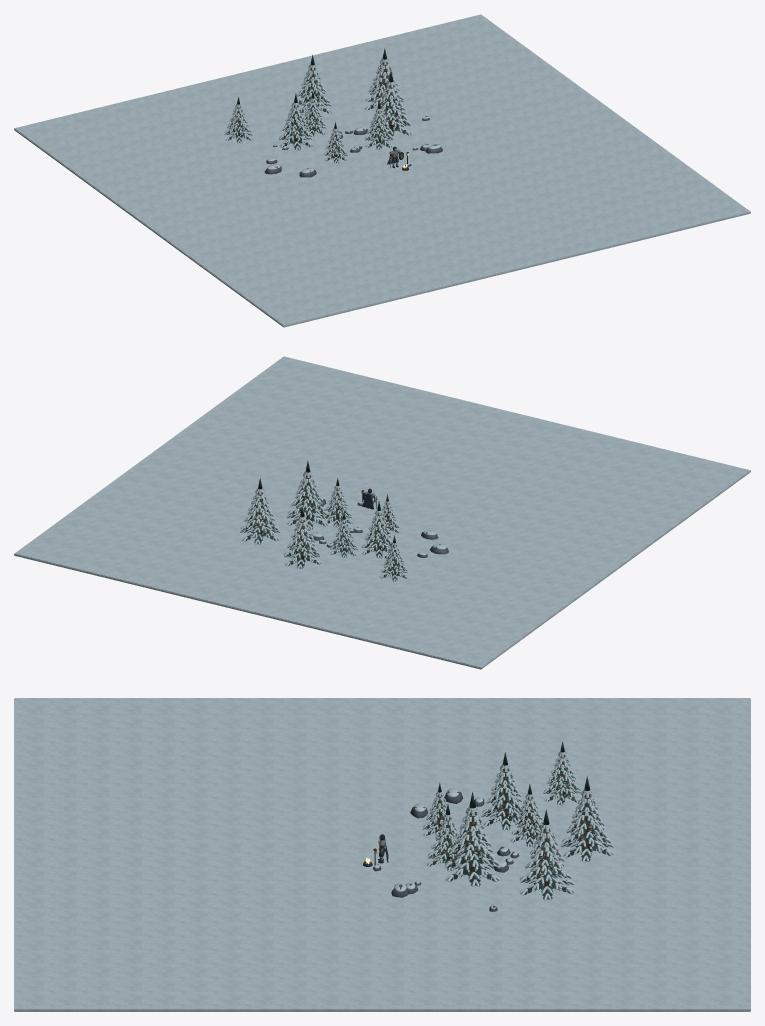
The model's file is menu_winter.glb.
The picture shows the model from 3 angles, top to bottom: view 1: azimuth 30°, elevation 25°; view 2: azimuth 150°, elevation 25°; view 3: azimuth 270°, elevation 25°; orthographic projection. The views are drawn at different scales.
Parts seen in each view (by area): view 1: Soft_windblown_snow, Fir_needles, Old_oak, Weathered_granite; view 2: Soft_windblown_snow, Fir_needles, Old_oak; view 3: Soft_windblown_snow, Fir_needles, Old_oak, Weathered_granite.
Part boxes in pixels (x1=…): Soft_windblown_snow: x1=14, y1=14, x2=750, y2=327; Fir_needles: x1=226, y1=48, x2=409, y2=162; Old_oak: x1=229, y1=64, x2=408, y2=169; Weathered_granite: x1=264, y1=116, x2=442, y2=177; Soft_windblown_snow: x1=14, y1=356, x2=750, y2=669; Fir_needles: x1=241, y1=460, x2=406, y2=581; Old_oak: x1=246, y1=478, x2=403, y2=577; Soft_windblown_snow: x1=14, y1=698, x2=750, y2=1011; Fir_needles: x1=423, y1=741, x2=612, y2=900; Old_oak: x1=363, y1=757, x2=606, y2=898; Weathered_granite: x1=373, y1=791, x2=519, y2=911.
Bounding box in the file's own units: 90 × 13.28 × 90.
Materials: 13 (10 with a texture image).
